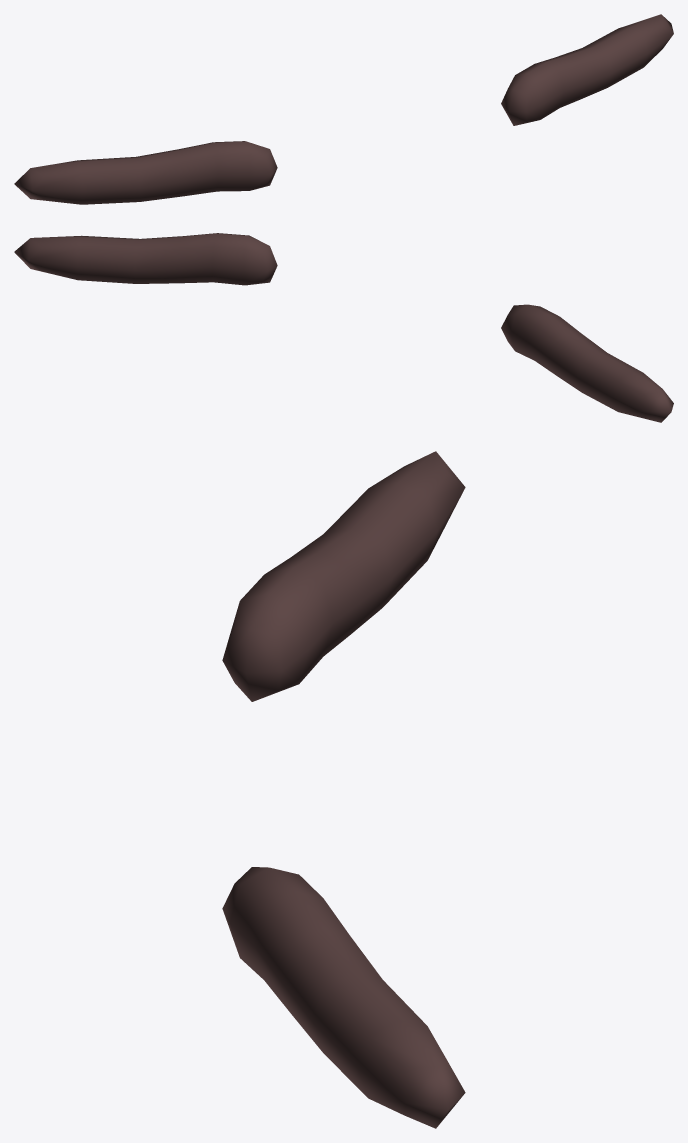
The model's file is Face_Eyebrows_Neutral.fbx.
3 views of the same model, one above another, from view 1: azimuth 30°, elevation 25°; view 2: azimuth 150°, elevation 25°; view 3: azimuth 270°, elevation 25° (orthographic). The views are drawn at different scales.
Visible parts, largest first — view 1: Cube; view 2: Cube; view 3: Cube.
Part boxes in pixels (left/top/right/bottom): Cube: left=14, top=14, right=673, bottom=204; Cube: left=14, top=233, right=673, bottom=422; Cube: left=222, top=451, right=465, bottom=1128.
Bounding box in the file's own units: 31 × 2.4 × 4.97.
1 material, 1 textured.
